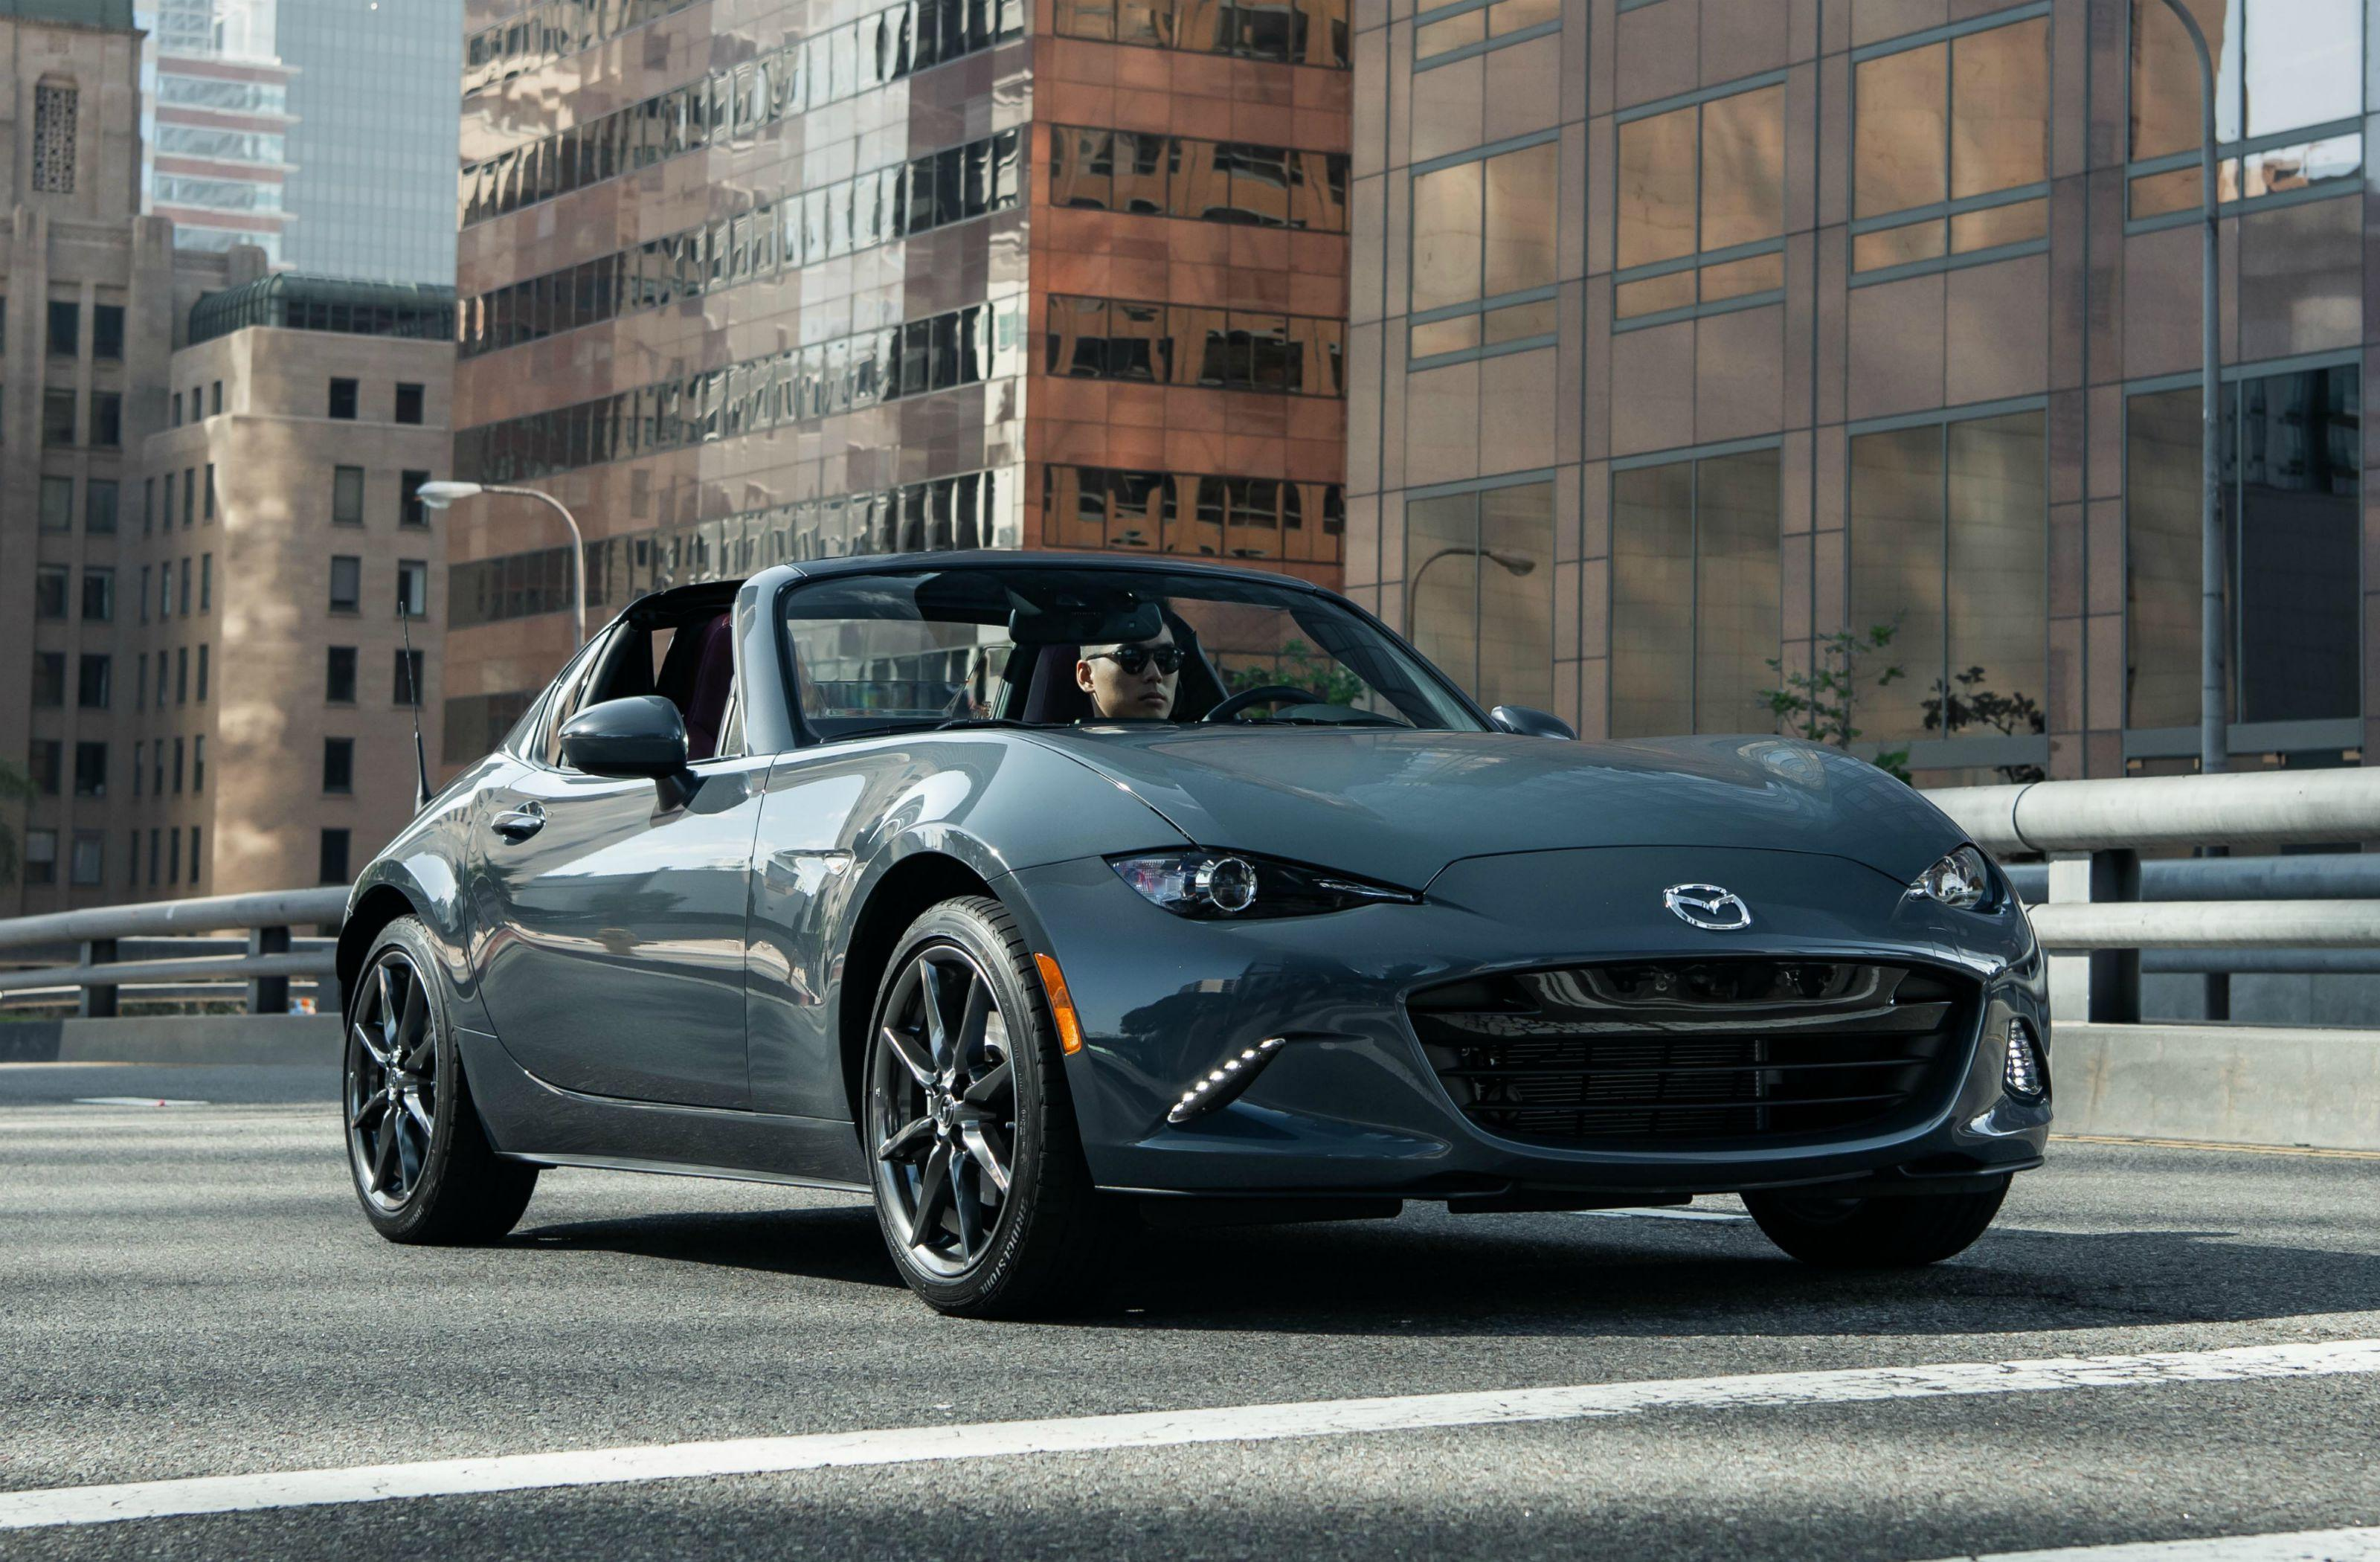windshield: (760, 561, 1495, 748)
